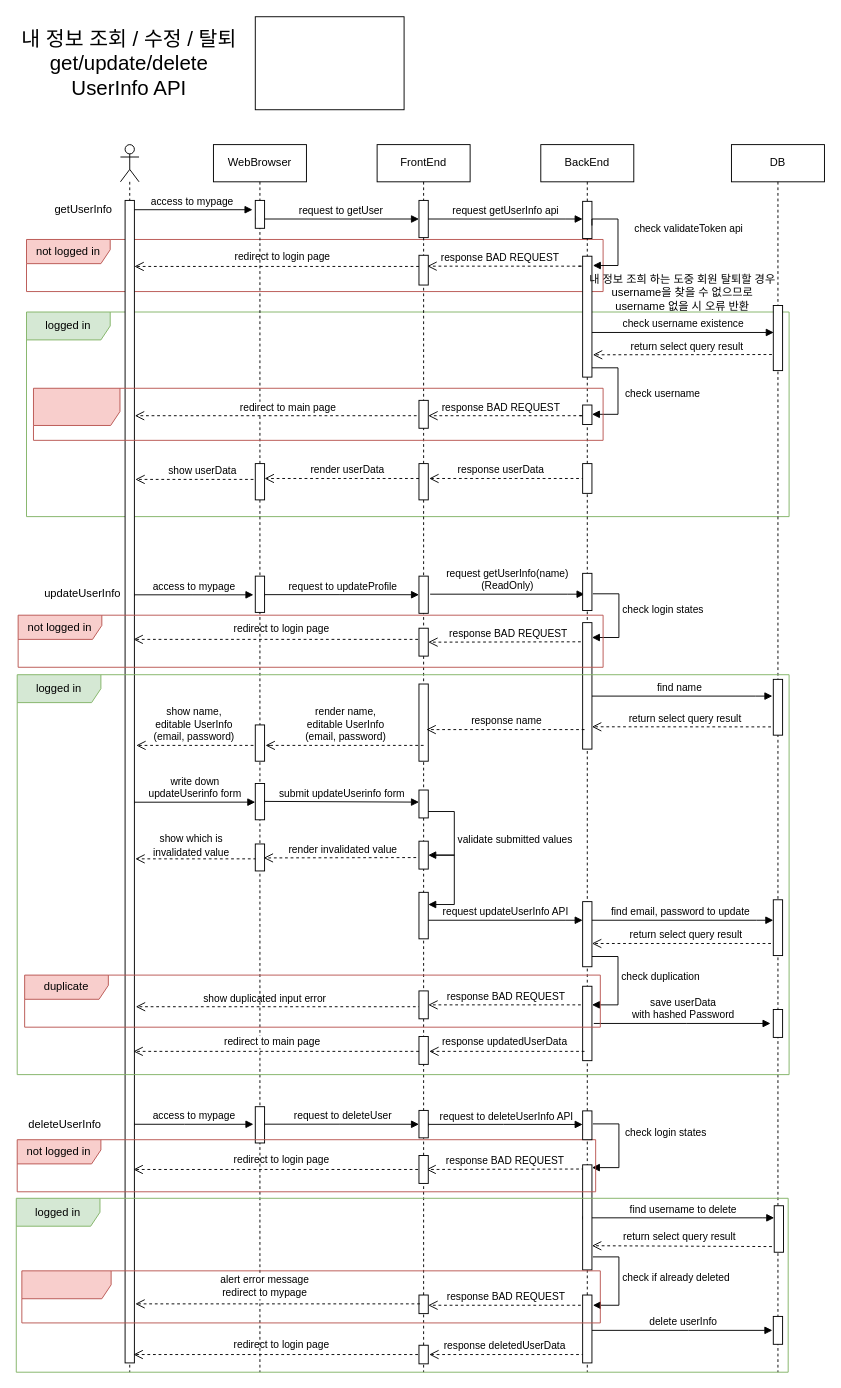
This 841x1388 diagram has some shape labels left out. Here are the shapes that lost their labels. From the top down, the box of each, then its label:
(254, 16, 404, 110): user:string name = admin username = admin1 email = admin@admin.com
(33, 387, 603, 440): can't find username
(21, 1270, 600, 1323): already deleted
